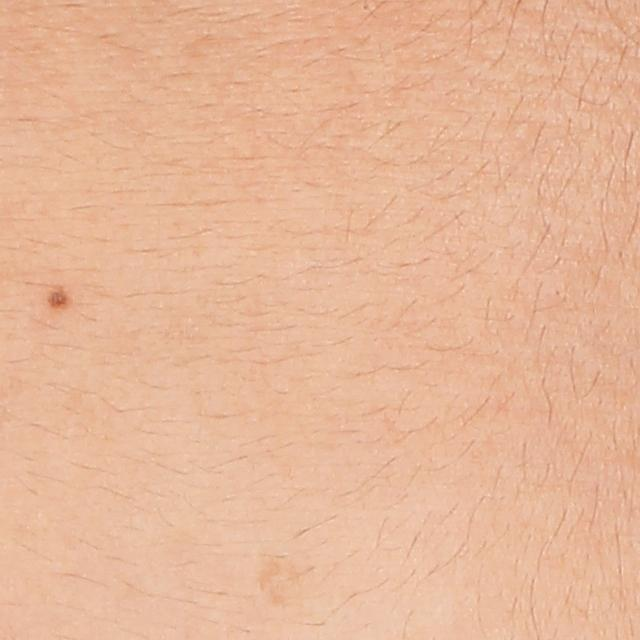nevus: (44, 282, 73, 311)
